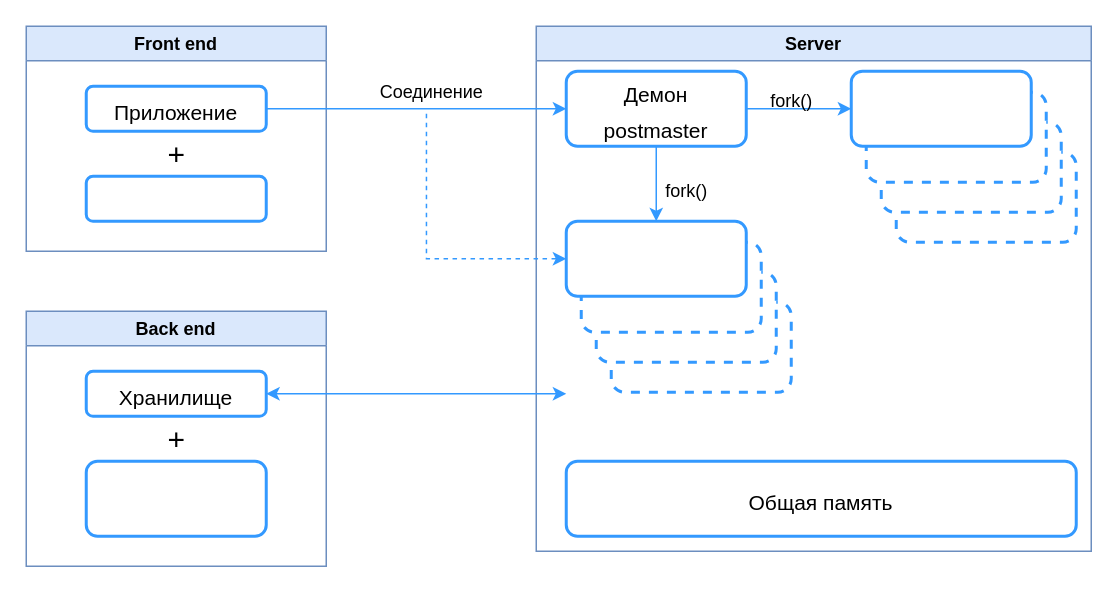
Image size: 1118x593. Some labels were removed from this diagram. The shapes that lost their labels are listed below. From the top down, each one's centre as x and y in pixels, then its label:
At pixel 940 108: "Служебные процессы".
At pixel 175 198: "LIBPQ".
At pixel 655 258: "Процесс Postgres".
At pixel 175 498: "Управление хранилищем".
